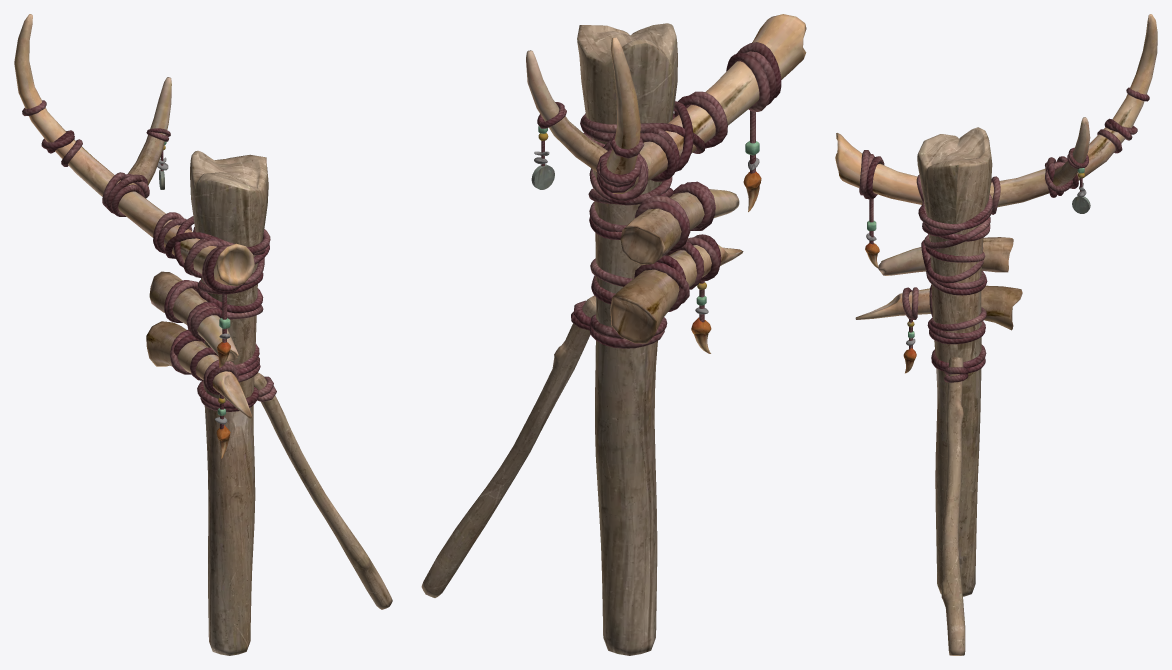
3 renders of one model, left to right at view 1: azimuth 30°, elevation 25°; view 2: azimuth 150°, elevation 25°; view 3: azimuth 270°, elevation 25°, orthographic. The views are drawn at different scales.
Parts seen in each view (by area): view 1: SM_Garou_Trophy_01v3_LOD0; view 2: SM_Garou_Trophy_01v3_LOD0; view 3: SM_Garou_Trophy_01v3_LOD0.
Part boxes in pixels (box(x1,y1,x2,y2)): SM_Garou_Trophy_01v3_LOD0: box(14, 14, 392, 655); SM_Garou_Trophy_01v3_LOD0: box(421, 14, 806, 655); SM_Garou_Trophy_01v3_LOD0: box(835, 14, 1157, 655).
Size of the model in its own units: 1.86 by 3.79 by 2.08.
1 material, 1 textured.
